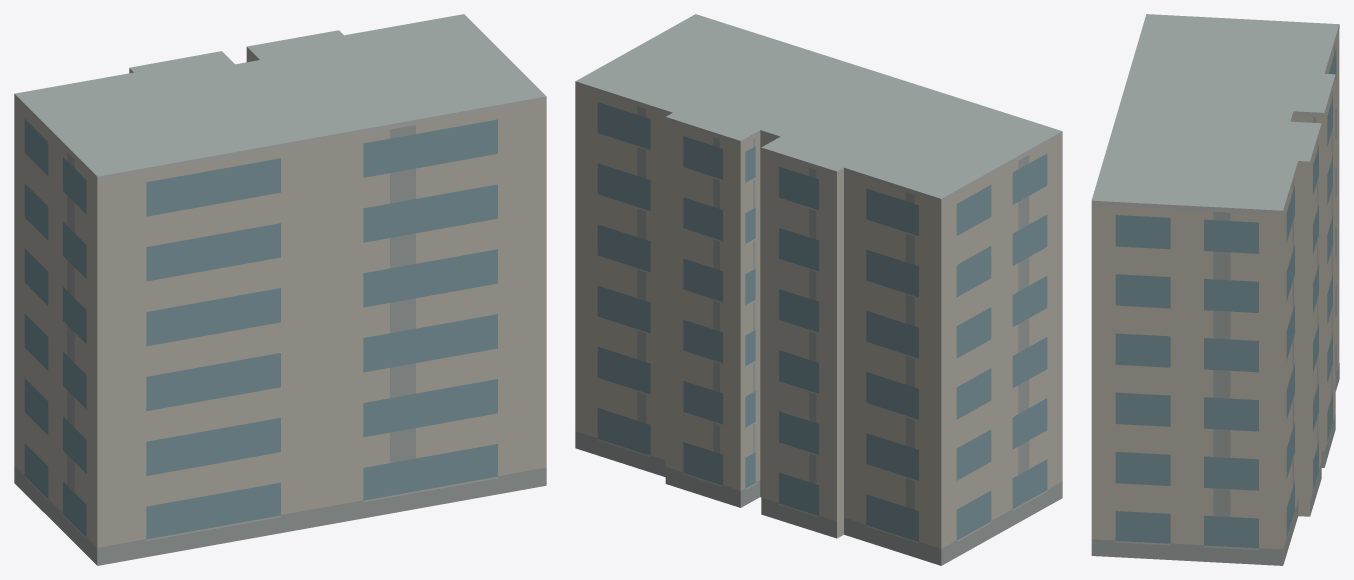
File: survey-upis-32981283.glb
3 renders of one model, left to right at view 1: azimuth 30°, elevation 25°; view 2: azimuth 150°, elevation 25°; view 3: azimuth 270°, elevation 25°, orthographic. The views are drawn at different scales.
Parts seen in each view (by area): view 1: survey-upis-32981283.tmp; view 2: survey-upis-32981283.tmp; view 3: survey-upis-32981283.tmp.
Boxes of the visible parts, <box> form: survey-upis-32981283.tmp: <box>14,14,546,565</box>; survey-upis-32981283.tmp: <box>575,14,1062,565</box>; survey-upis-32981283.tmp: <box>1091,14,1339,565</box>.
Bounding box in the file's own units: 21.74 × 18.3 × 11.59.
